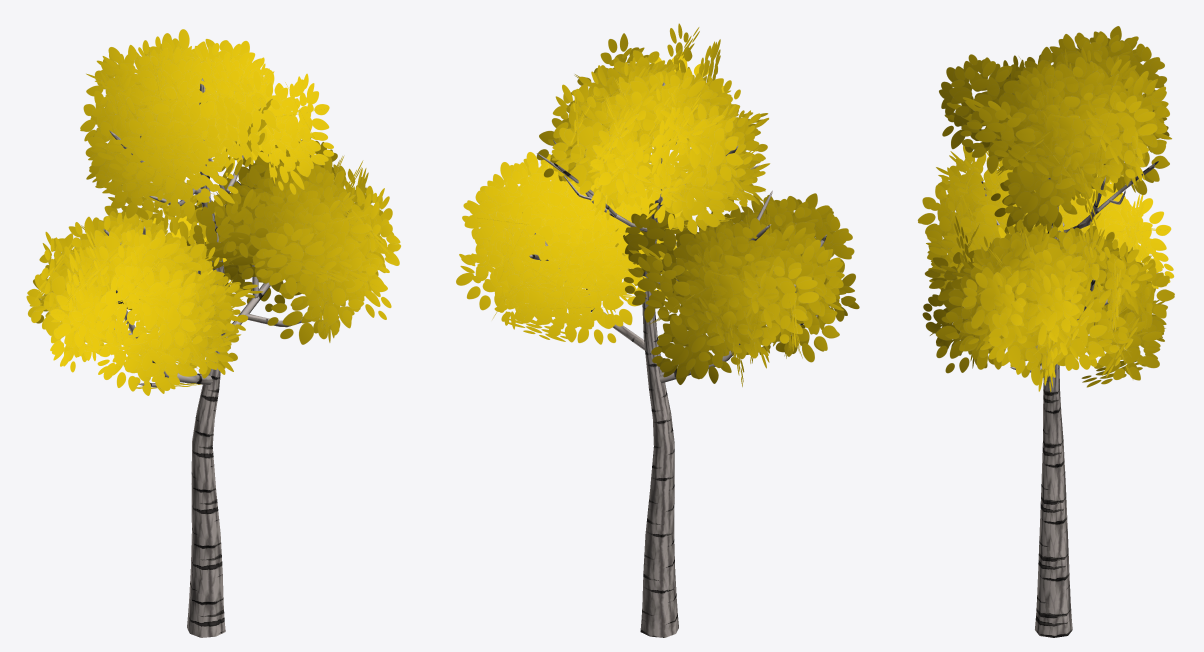
The model's file is BirchTree_4.glb.
The picture shows the model from 3 angles, left to right: view 1: azimuth 30°, elevation 25°; view 2: azimuth 150°, elevation 25°; view 3: azimuth 270°, elevation 25°; orthographic projection.
Visible parts, largest first — view 1: BirchTree_4; view 2: BirchTree_4; view 3: BirchTree_4.
Part boxes in pixels (bbox=[...]): BirchTree_4: bbox=[26, 29, 400, 637]; BirchTree_4: bbox=[456, 23, 859, 637]; BirchTree_4: bbox=[917, 26, 1174, 637].
Size of the model in its own units: 2.78 by 4.21 by 1.84.
2 materials, 2 textured.
